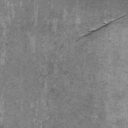finishing roll printing: (76, 14, 126, 41)
